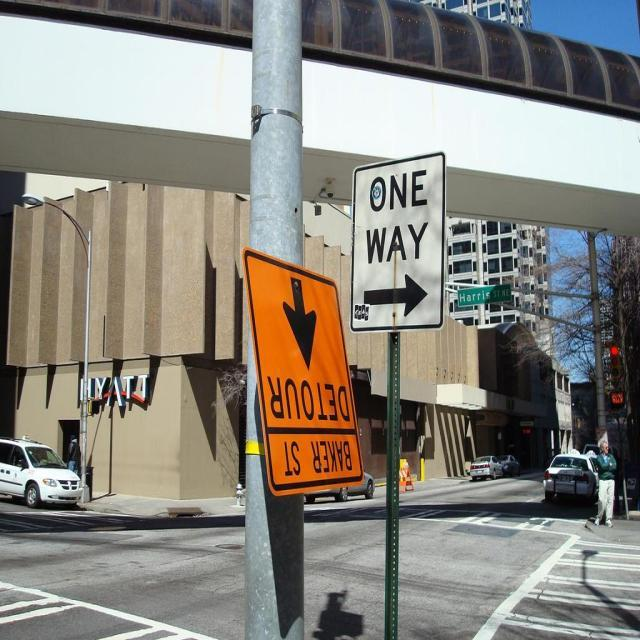traffic light: (605, 344, 626, 370)
